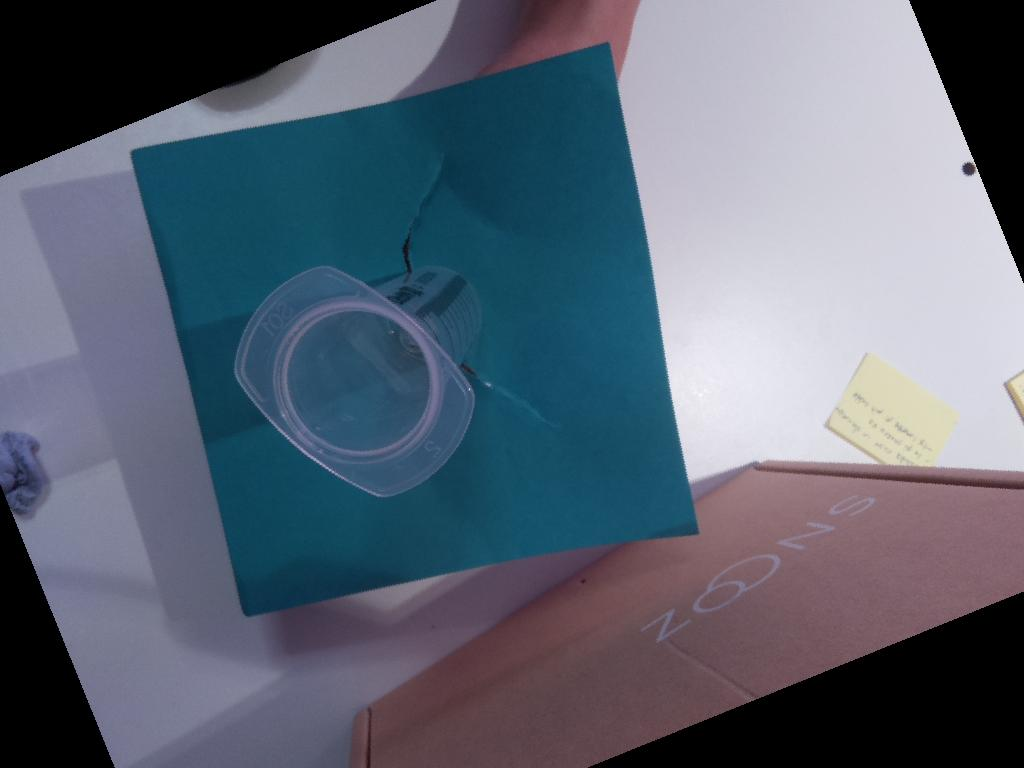clean: (228, 260, 483, 505)
